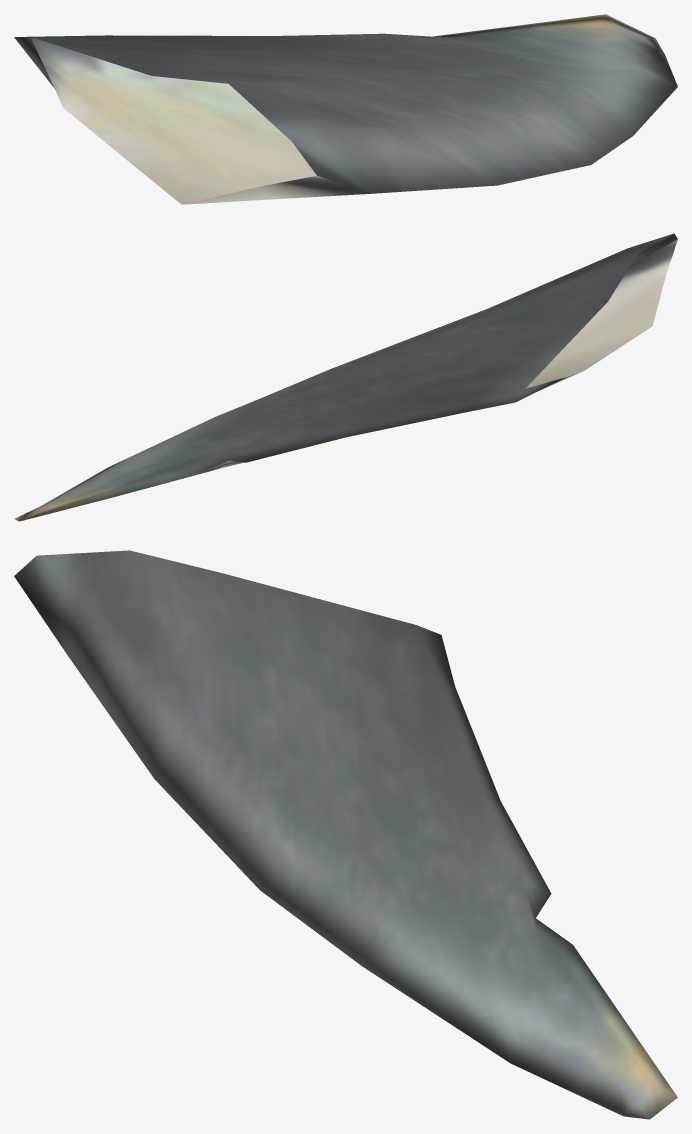
File: AletaIzq.obj
3 views of the same model, one above another, from view 1: azimuth 30°, elevation 25°; view 2: azimuth 150°, elevation 25°; view 3: azimuth 270°, elevation 25° (orthographic). The views are drawn at different scales.
Parts seen in each view (by area): view 1: AletaIzquierda; view 2: AletaIzquierda; view 3: AletaIzquierda.
Part boxes in pixels (left/top/right/bottom): AletaIzquierda: left=14, top=14, right=677, bottom=204; AletaIzquierda: left=14, top=233, right=677, bottom=521; AletaIzquierda: left=14, top=550, right=677, bottom=1119.
Bounding box in the file's own units: 9.99 × 4.8 × 9.78.
1 material, 1 textured.
